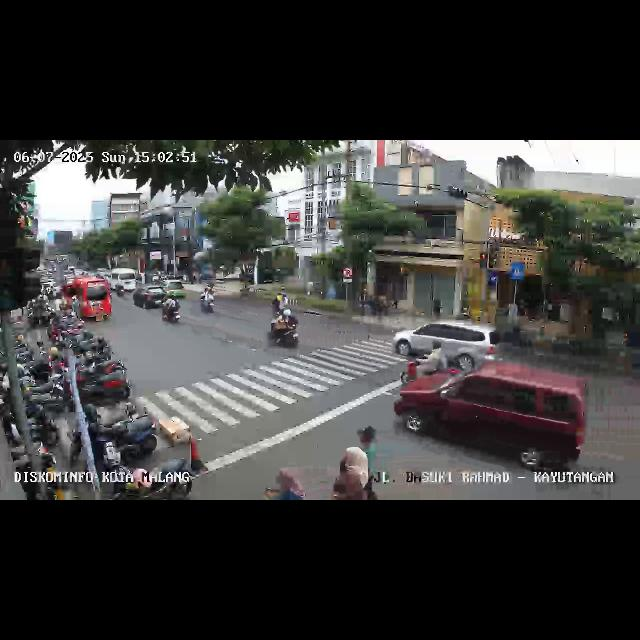car: (394, 367, 586, 478), (392, 320, 502, 370), (62, 277, 111, 323), (131, 283, 167, 311)
motorcycle: (398, 336, 469, 384), (268, 310, 300, 350), (160, 294, 183, 326), (200, 284, 217, 316), (270, 292, 292, 310), (114, 276, 126, 298)
person: (331, 446, 371, 500), (358, 426, 380, 500), (262, 470, 306, 500)
